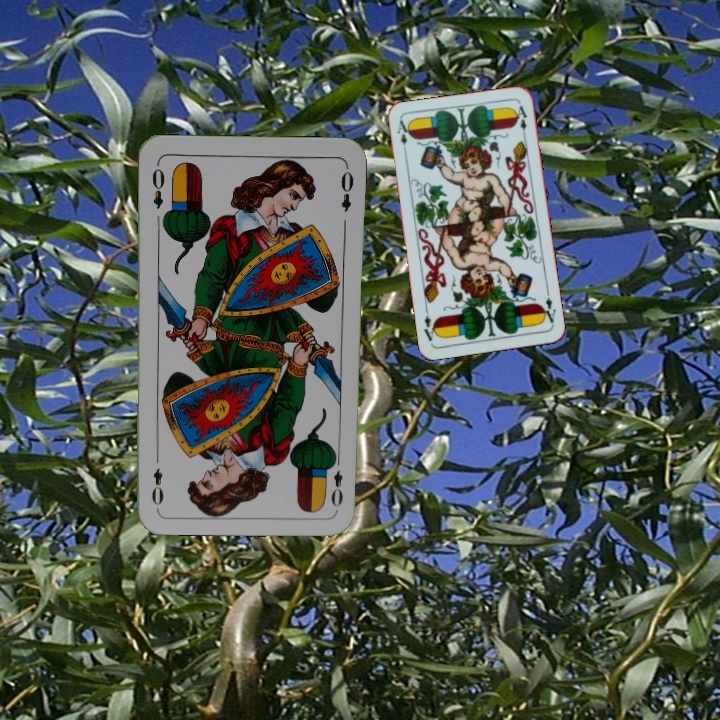EA: (393, 117, 412, 157), (537, 293, 558, 327)
EO: (327, 452, 346, 510), (148, 159, 167, 211)
